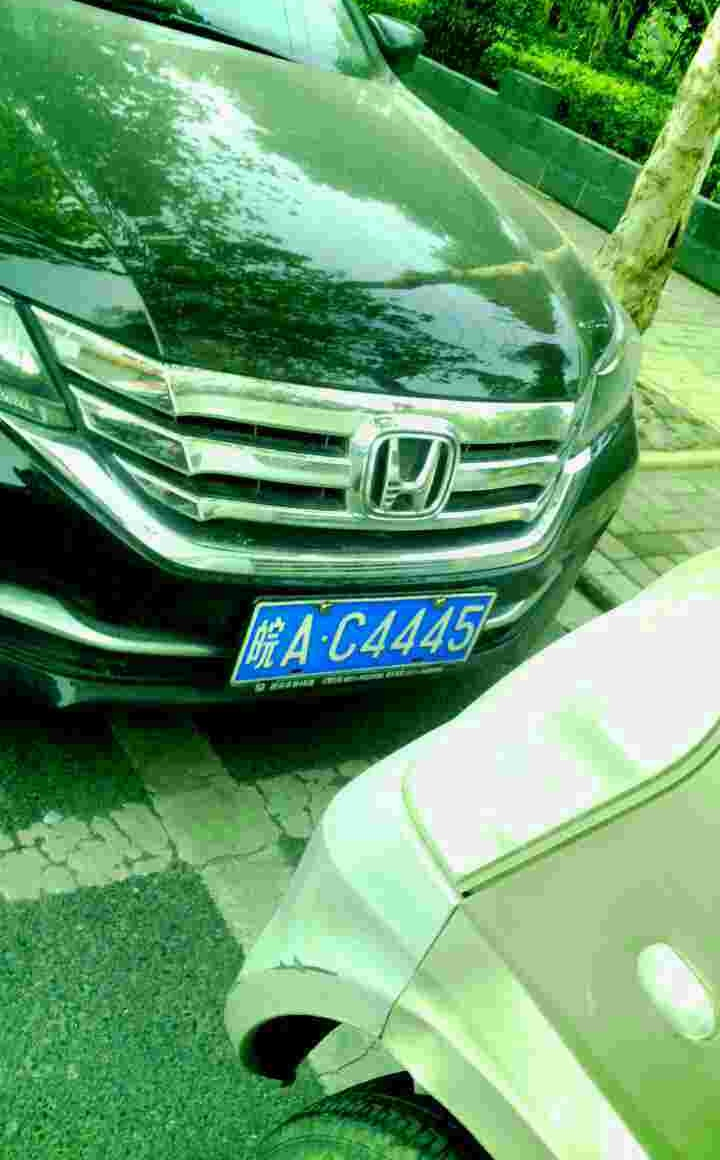license_plate: (240, 591, 485, 690)
